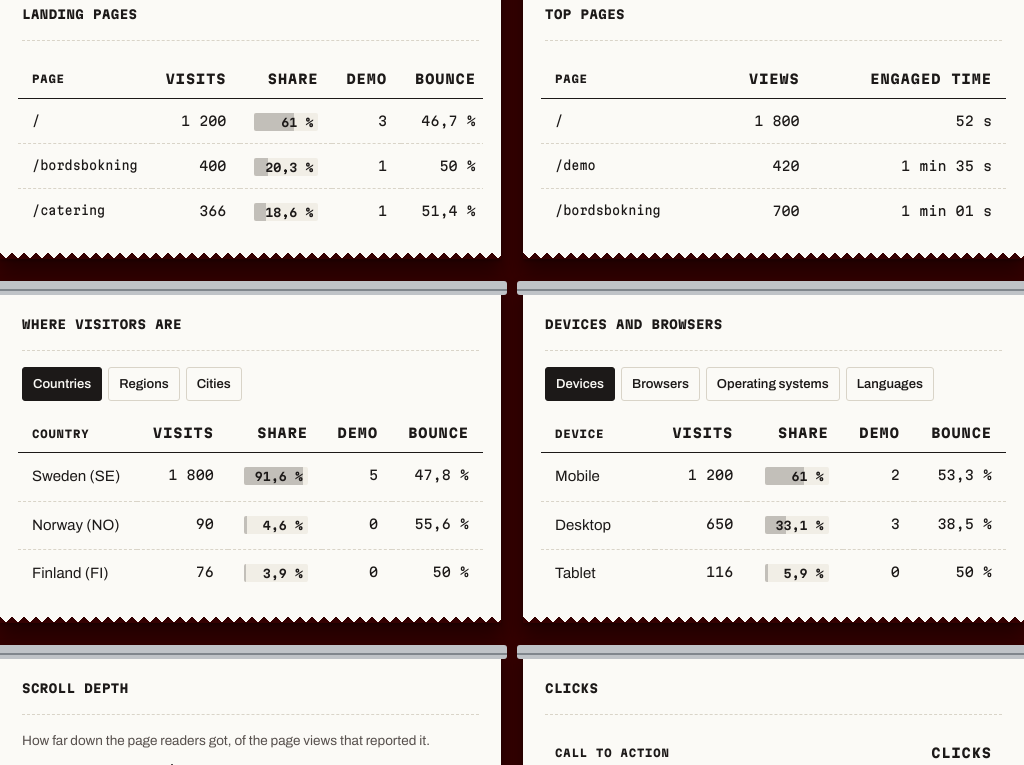
Test case: WebsitePage › lists sources, campaigns and places
The width and height of the screenshot is (1024, 765).
(page scrolled)
Expected: the text "Sweden (SE)" is shown, [18, 453, 137, 501]
Click the button "Cities" at (214, 384), box [186, 367, 242, 401]
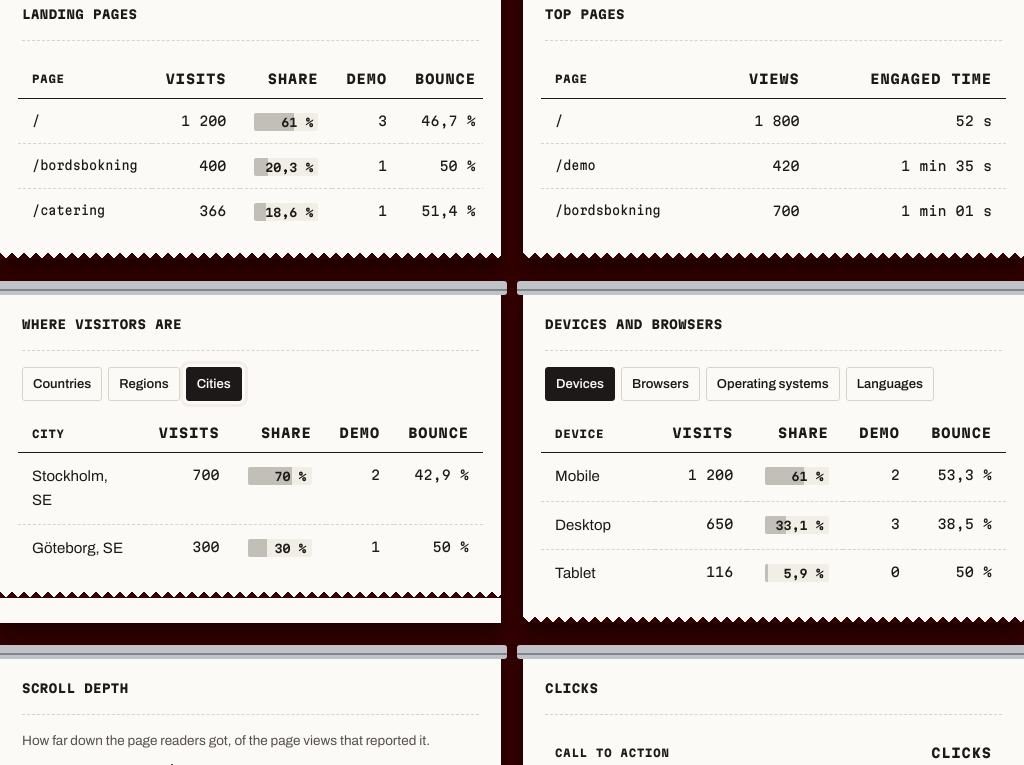
Now the text "Göteborg, SE" is shown, box [18, 524, 145, 572]
